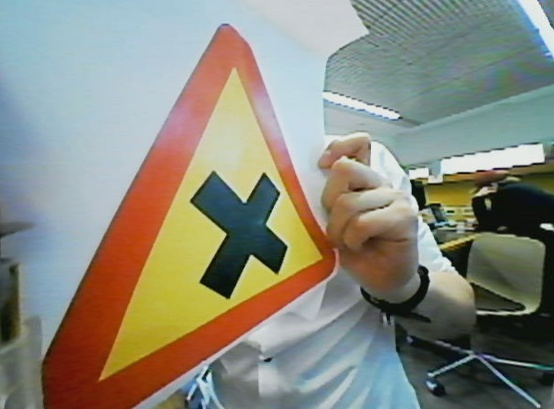junction: (62, 22, 335, 404)
